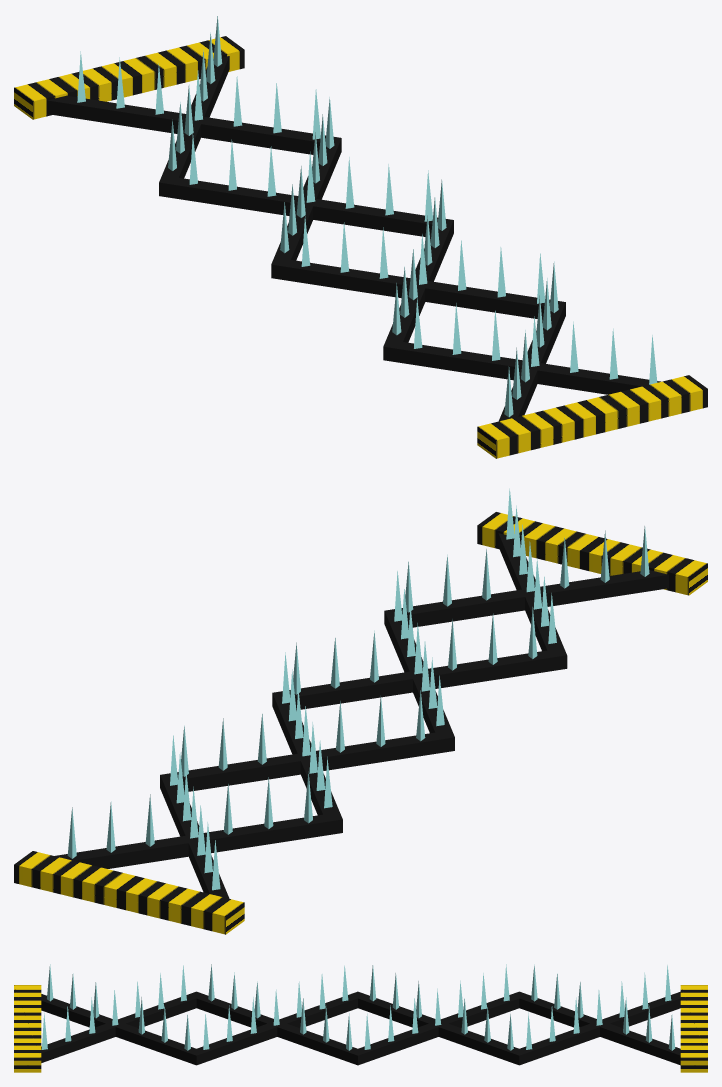
Rendered from Spike Strip.fbx.
3 views of the same model, one above another, from view 1: azimuth 30°, elevation 25°; view 2: azimuth 150°, elevation 25°; view 3: azimuth 270°, elevation 25° (orthographic). The views are drawn at different scales.
Parts seen in each view (by area): view 1: Spike_Strip; view 2: Spike_Strip; view 3: Spike_Strip.
Part boxes in pixels (left/top/right/bottom): Spike_Strip: left=14, top=16, right=707, bottom=458; Spike_Strip: left=14, top=488, right=707, bottom=934; Spike_Strip: left=14, top=964, right=707, bottom=1072.
Size of the model in its own units: 30.3 by 9.1 by 119.
Materials: 1 (1 with a texture image).
